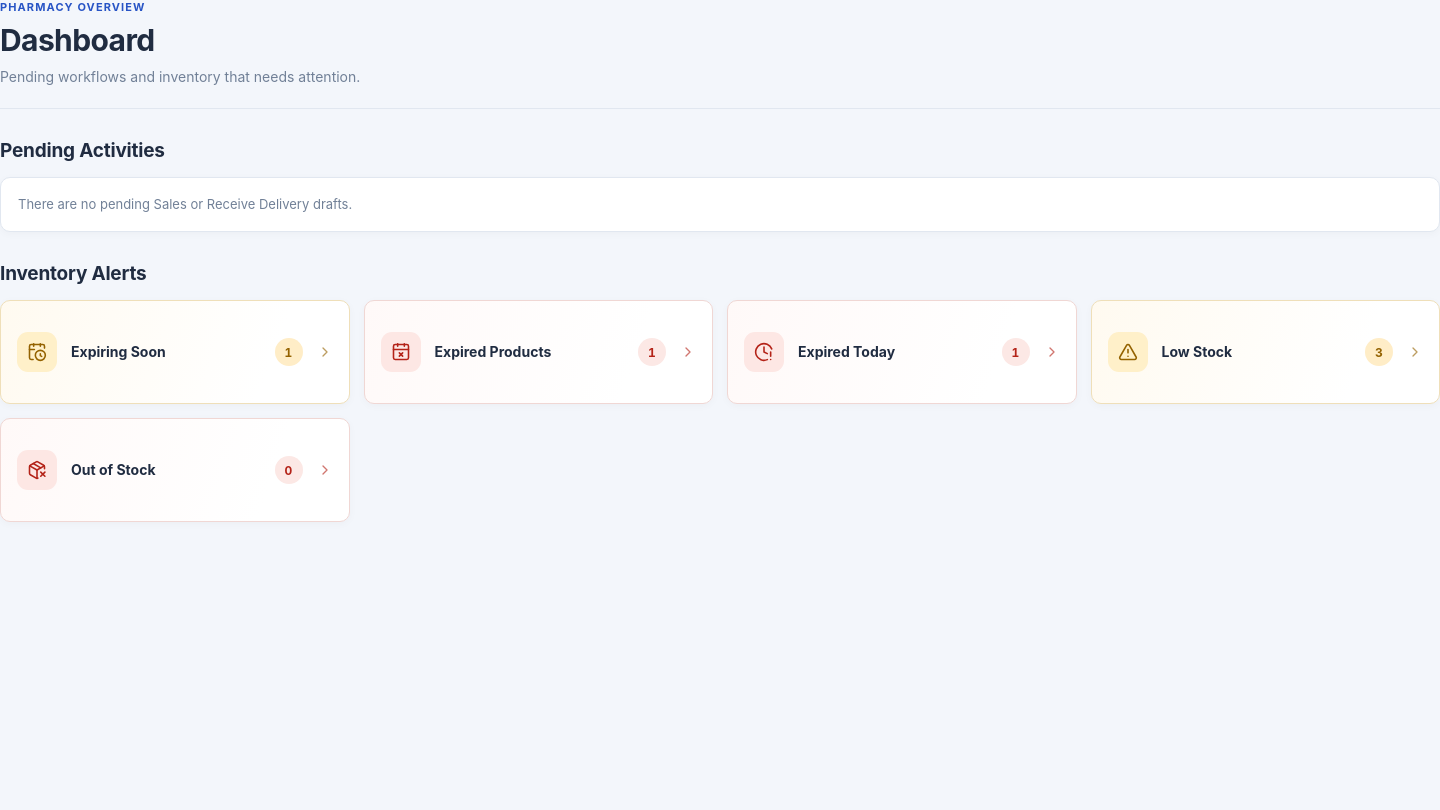
Test: Dashboard inventory alerts › opens the correct expiry details for each expiry category
Expected: the text "Vaccine · Vials" is not shown
Click the button with aria-label "Open Expiring Soon details, 1 affected product/variant".
click(37, 352)  # box [0, 300, 350, 404]
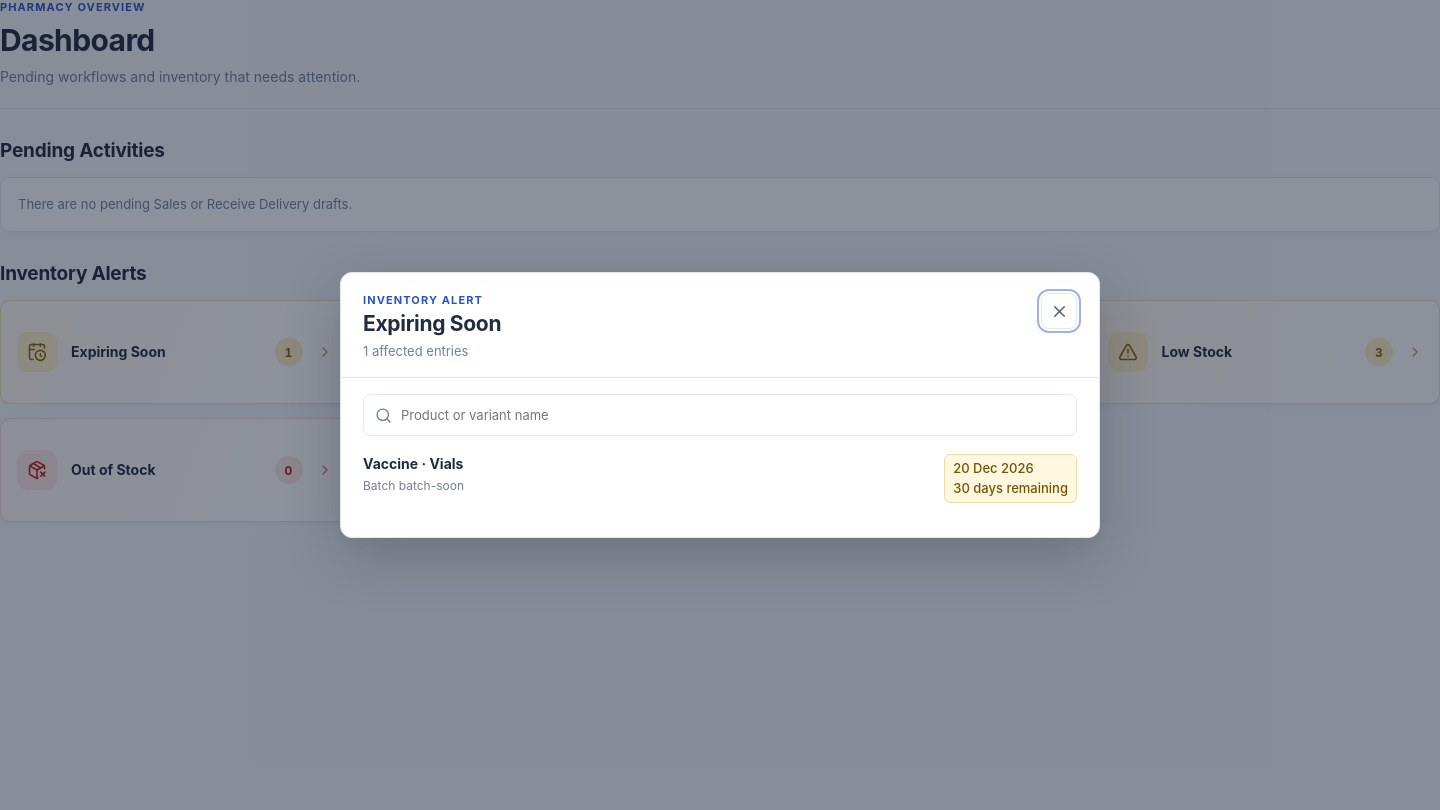
Expected: the dialog "Expiring Soon" is shown, [340, 272, 1100, 538]
Expected: the text "Vaccine · Vials" is shown, [363, 455, 463, 472]
Expected: the text "20 Dec 2026" is shown, [953, 460, 1034, 476]
Click the button named "Close Expiring Soon details".
click(1059, 311)  # box [1041, 293, 1077, 329]
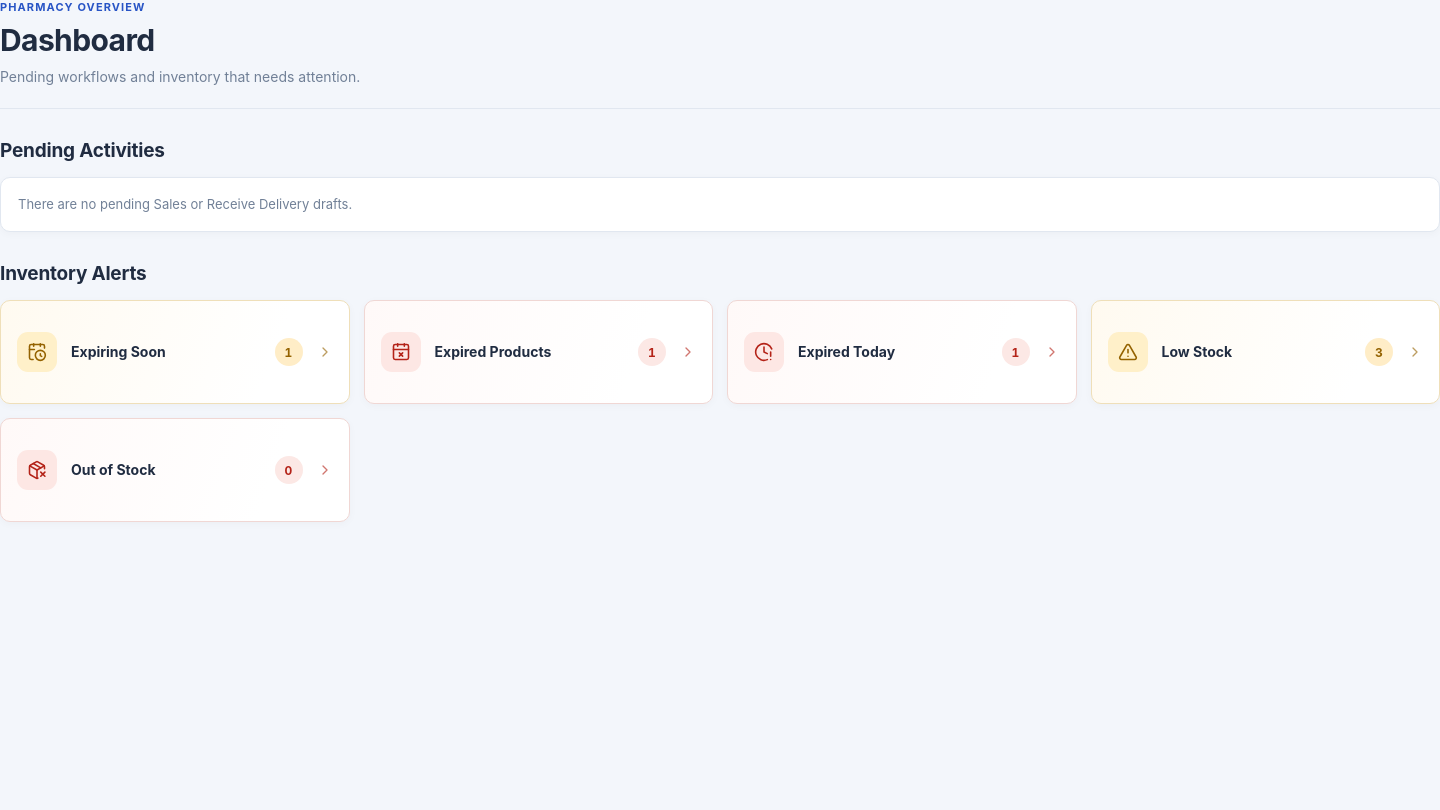
Click the button with aria-label "Open Expired Products details, 1 affected product/variant".
click(538, 352)  # box [364, 300, 713, 404]
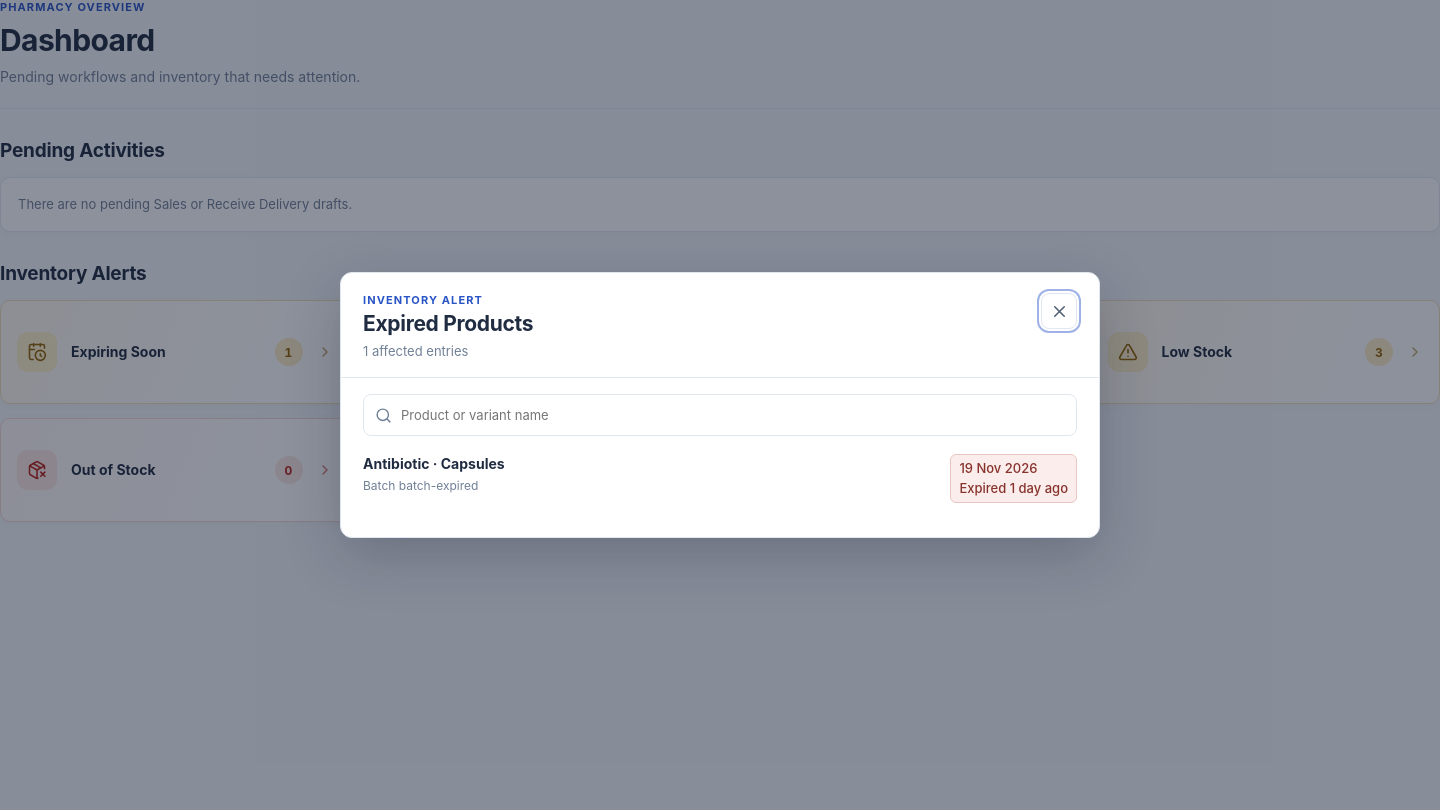
Expected: the dialog "Expired Products" is shown, [340, 272, 1100, 538]
Expected: the text "Antibiotic · Capsules" is shown, [363, 455, 505, 472]
Expected: the text "19 Nov 2026" is shown, [959, 460, 1037, 476]
Click the button named "Close Expired Products details".
click(1059, 311)  # box [1041, 293, 1077, 329]
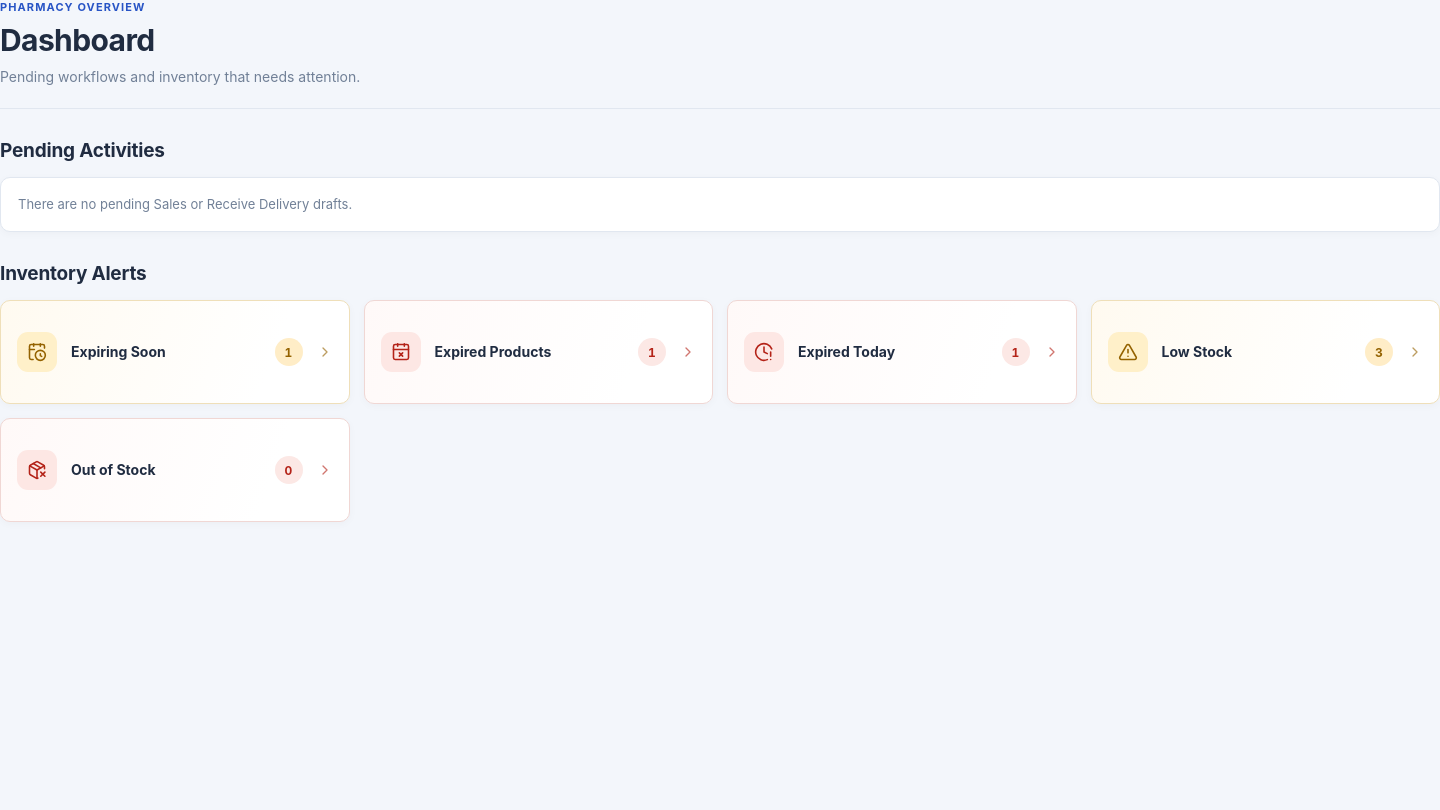
Click the button with aria-label "Open Expired Today details, 1 affected product/variant".
click(764, 352)  # box [727, 300, 1076, 404]
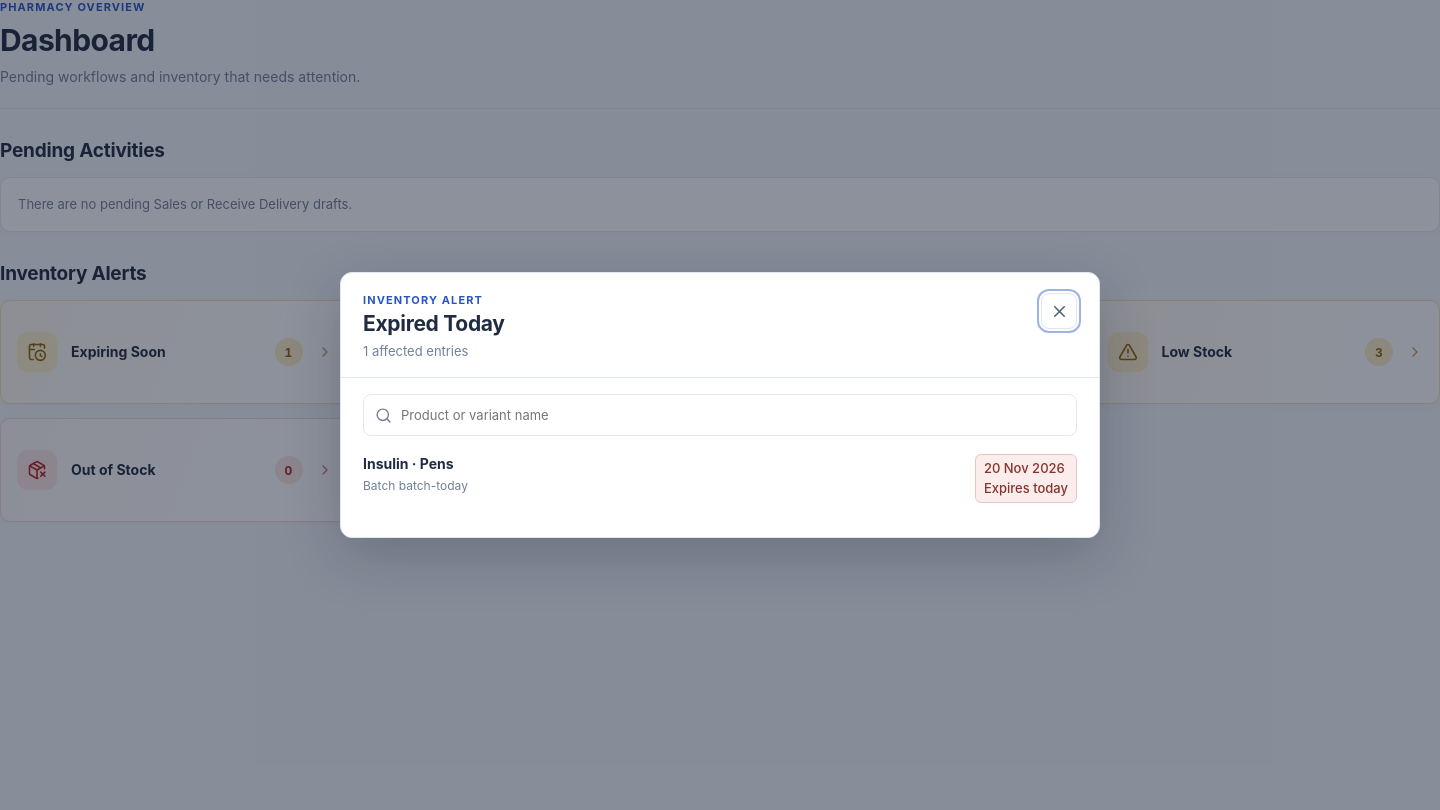
Expected: the dialog "Expired Today" is shown, [340, 272, 1100, 538]
Expected: the text "Insulin · Pens" is shown, [363, 455, 454, 472]
Expected: the text "20 Nov 2026" is shown, [984, 460, 1065, 476]
